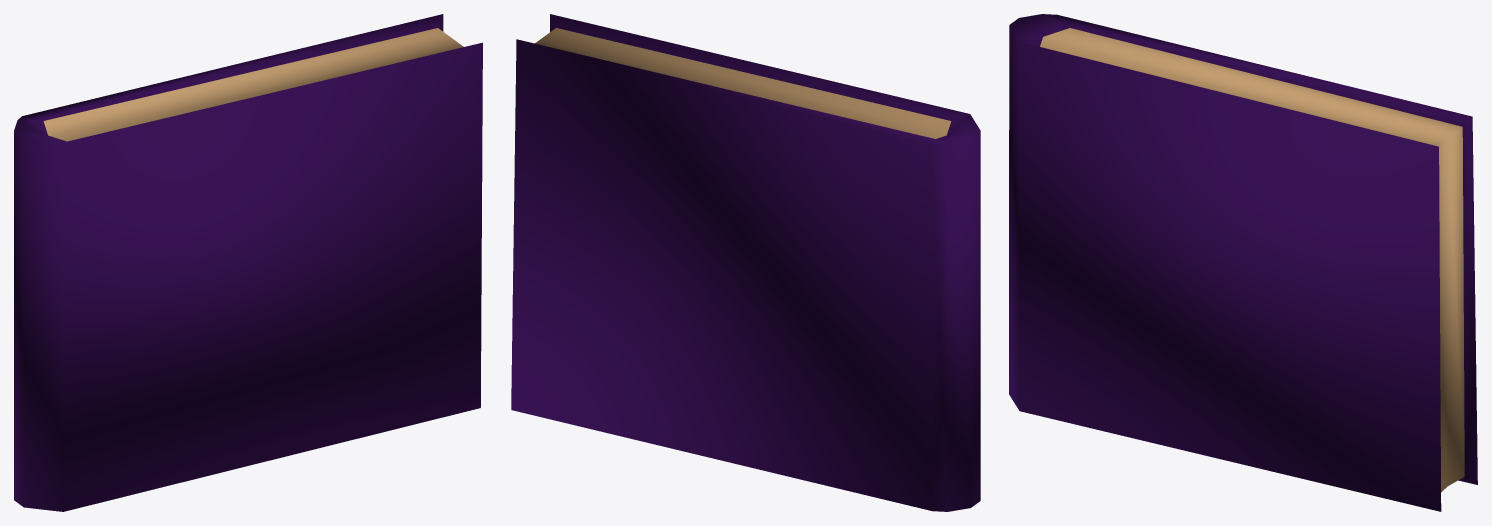
Rendered from book008.fbx.
3 views of the same model, side by side, from view 1: azimuth 30°, elevation 25°; view 2: azimuth 150°, elevation 25°; view 3: azimuth 330°, elevation 25° (orthographic).
Parts seen in each view (by area): view 1: Book Variation 008; view 2: Book Variation 008; view 3: Book Variation 008.
Boxes of the visible parts, box(x1,y1,x2,y2) form: Book Variation 008: box(14, 14, 482, 511); Book Variation 008: box(511, 14, 980, 511); Book Variation 008: box(1009, 14, 1477, 511).
Size of the model in its own units: 0.4538 by 0.3604 by 0.0702.
